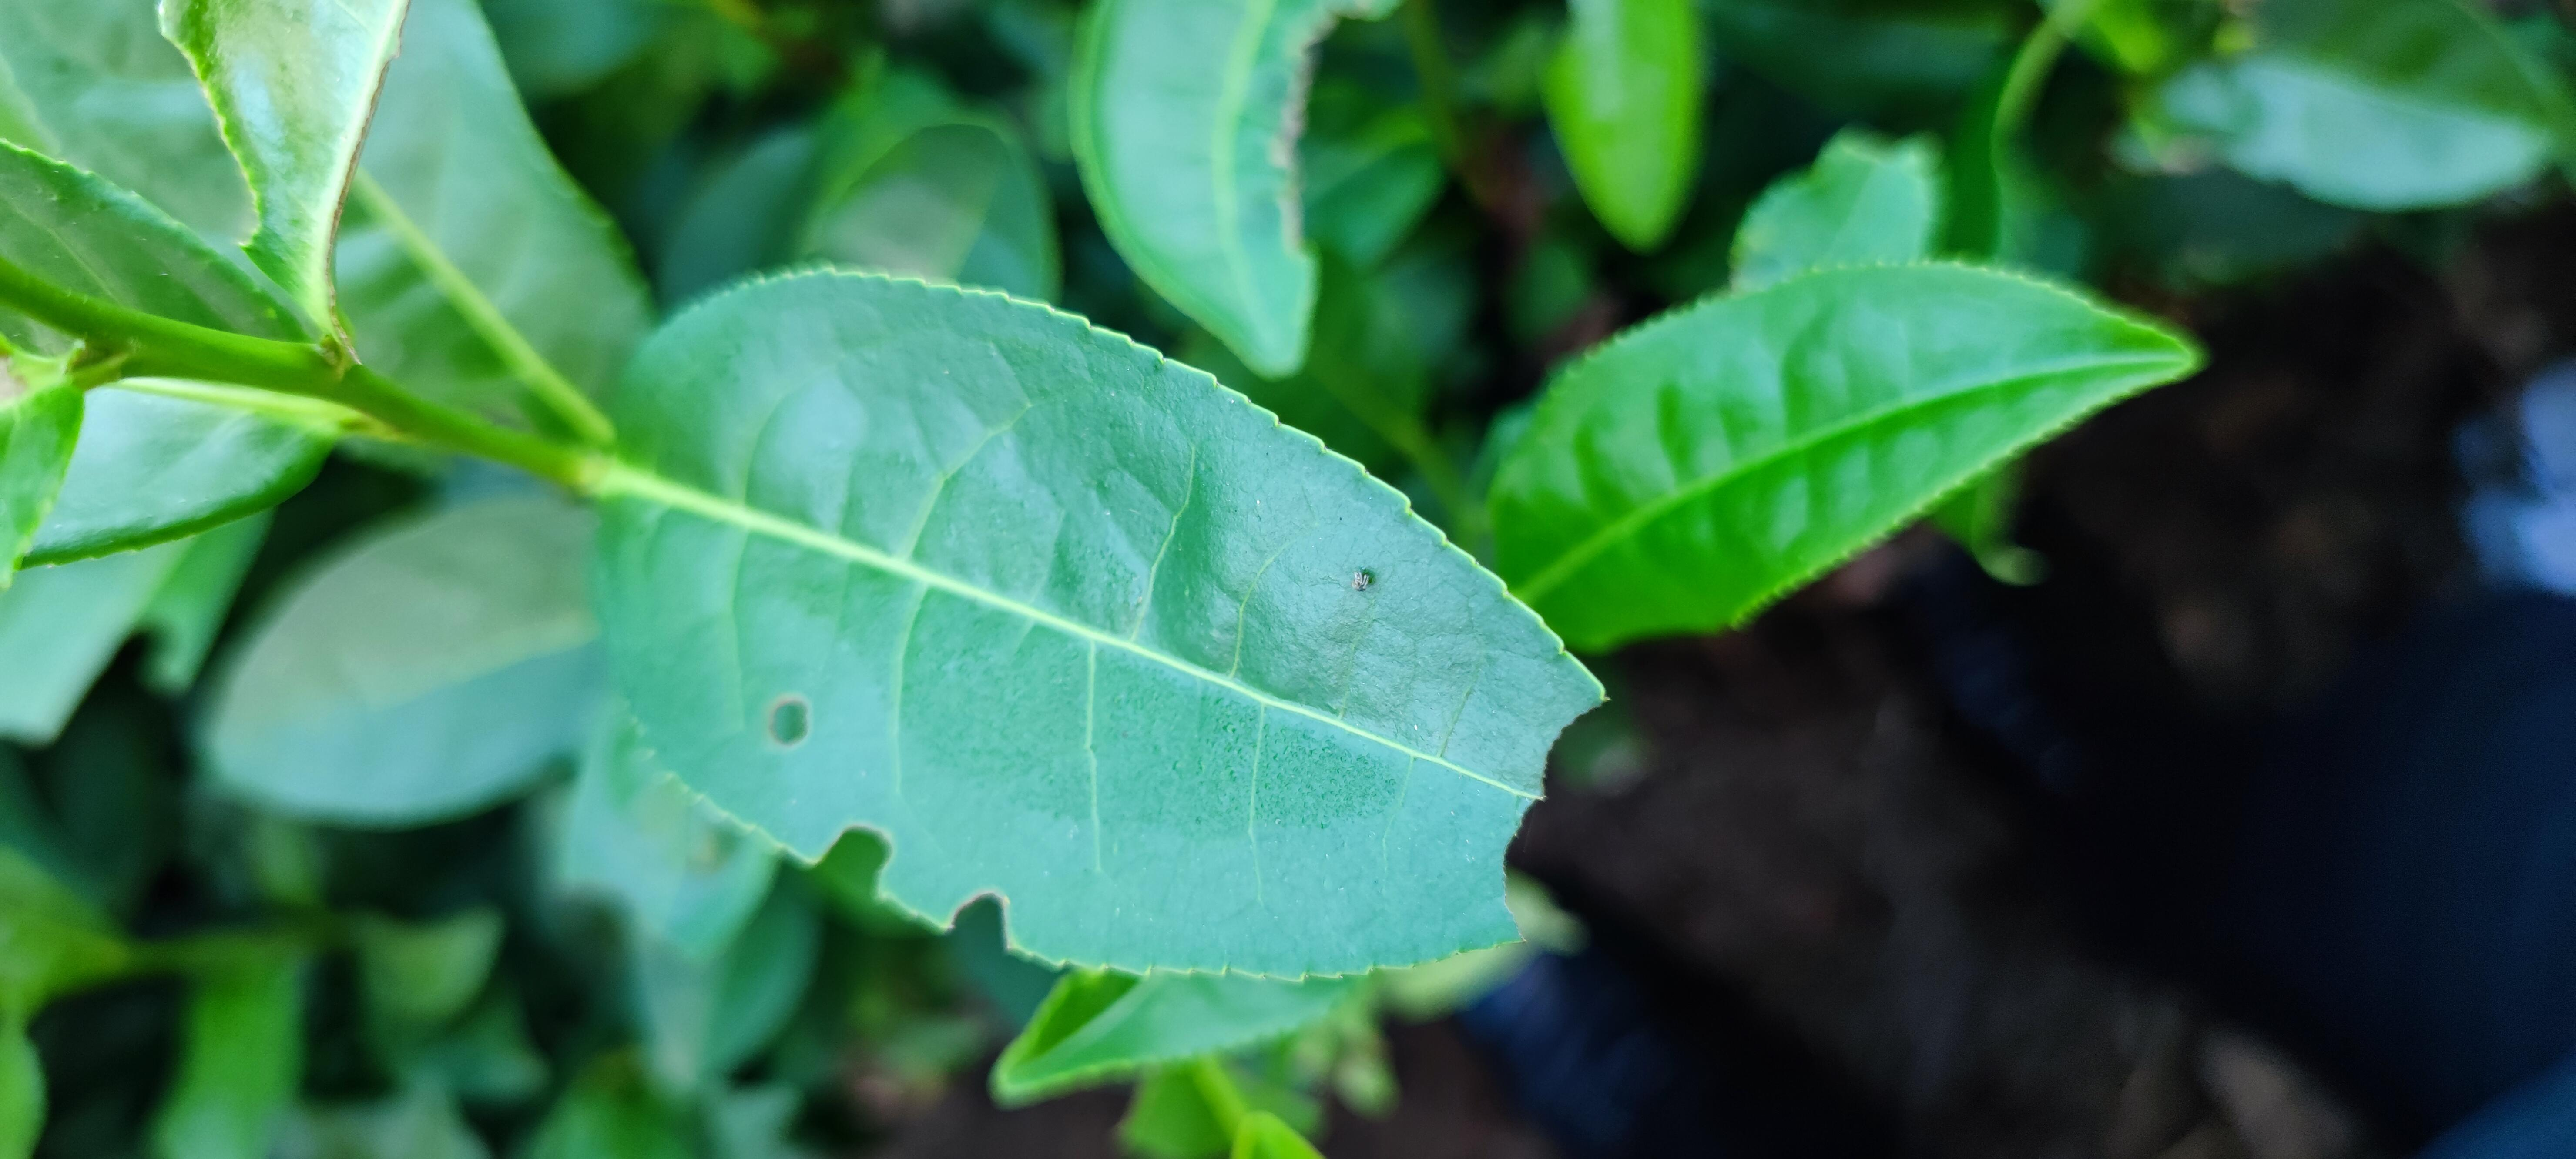chihuo_high: (600, 263, 1607, 987)
chihuo_low: (1065, 0, 1401, 384)
healthy: (1479, 254, 2203, 655)
